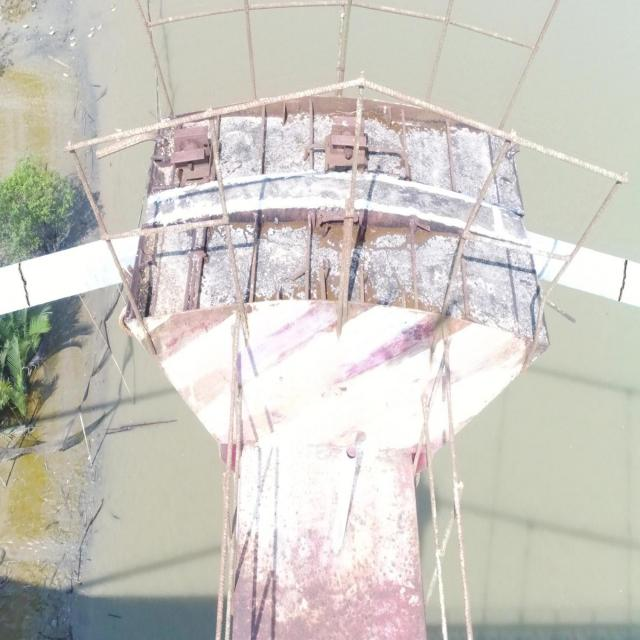crack: (17, 264, 31, 306), (618, 260, 628, 302)
